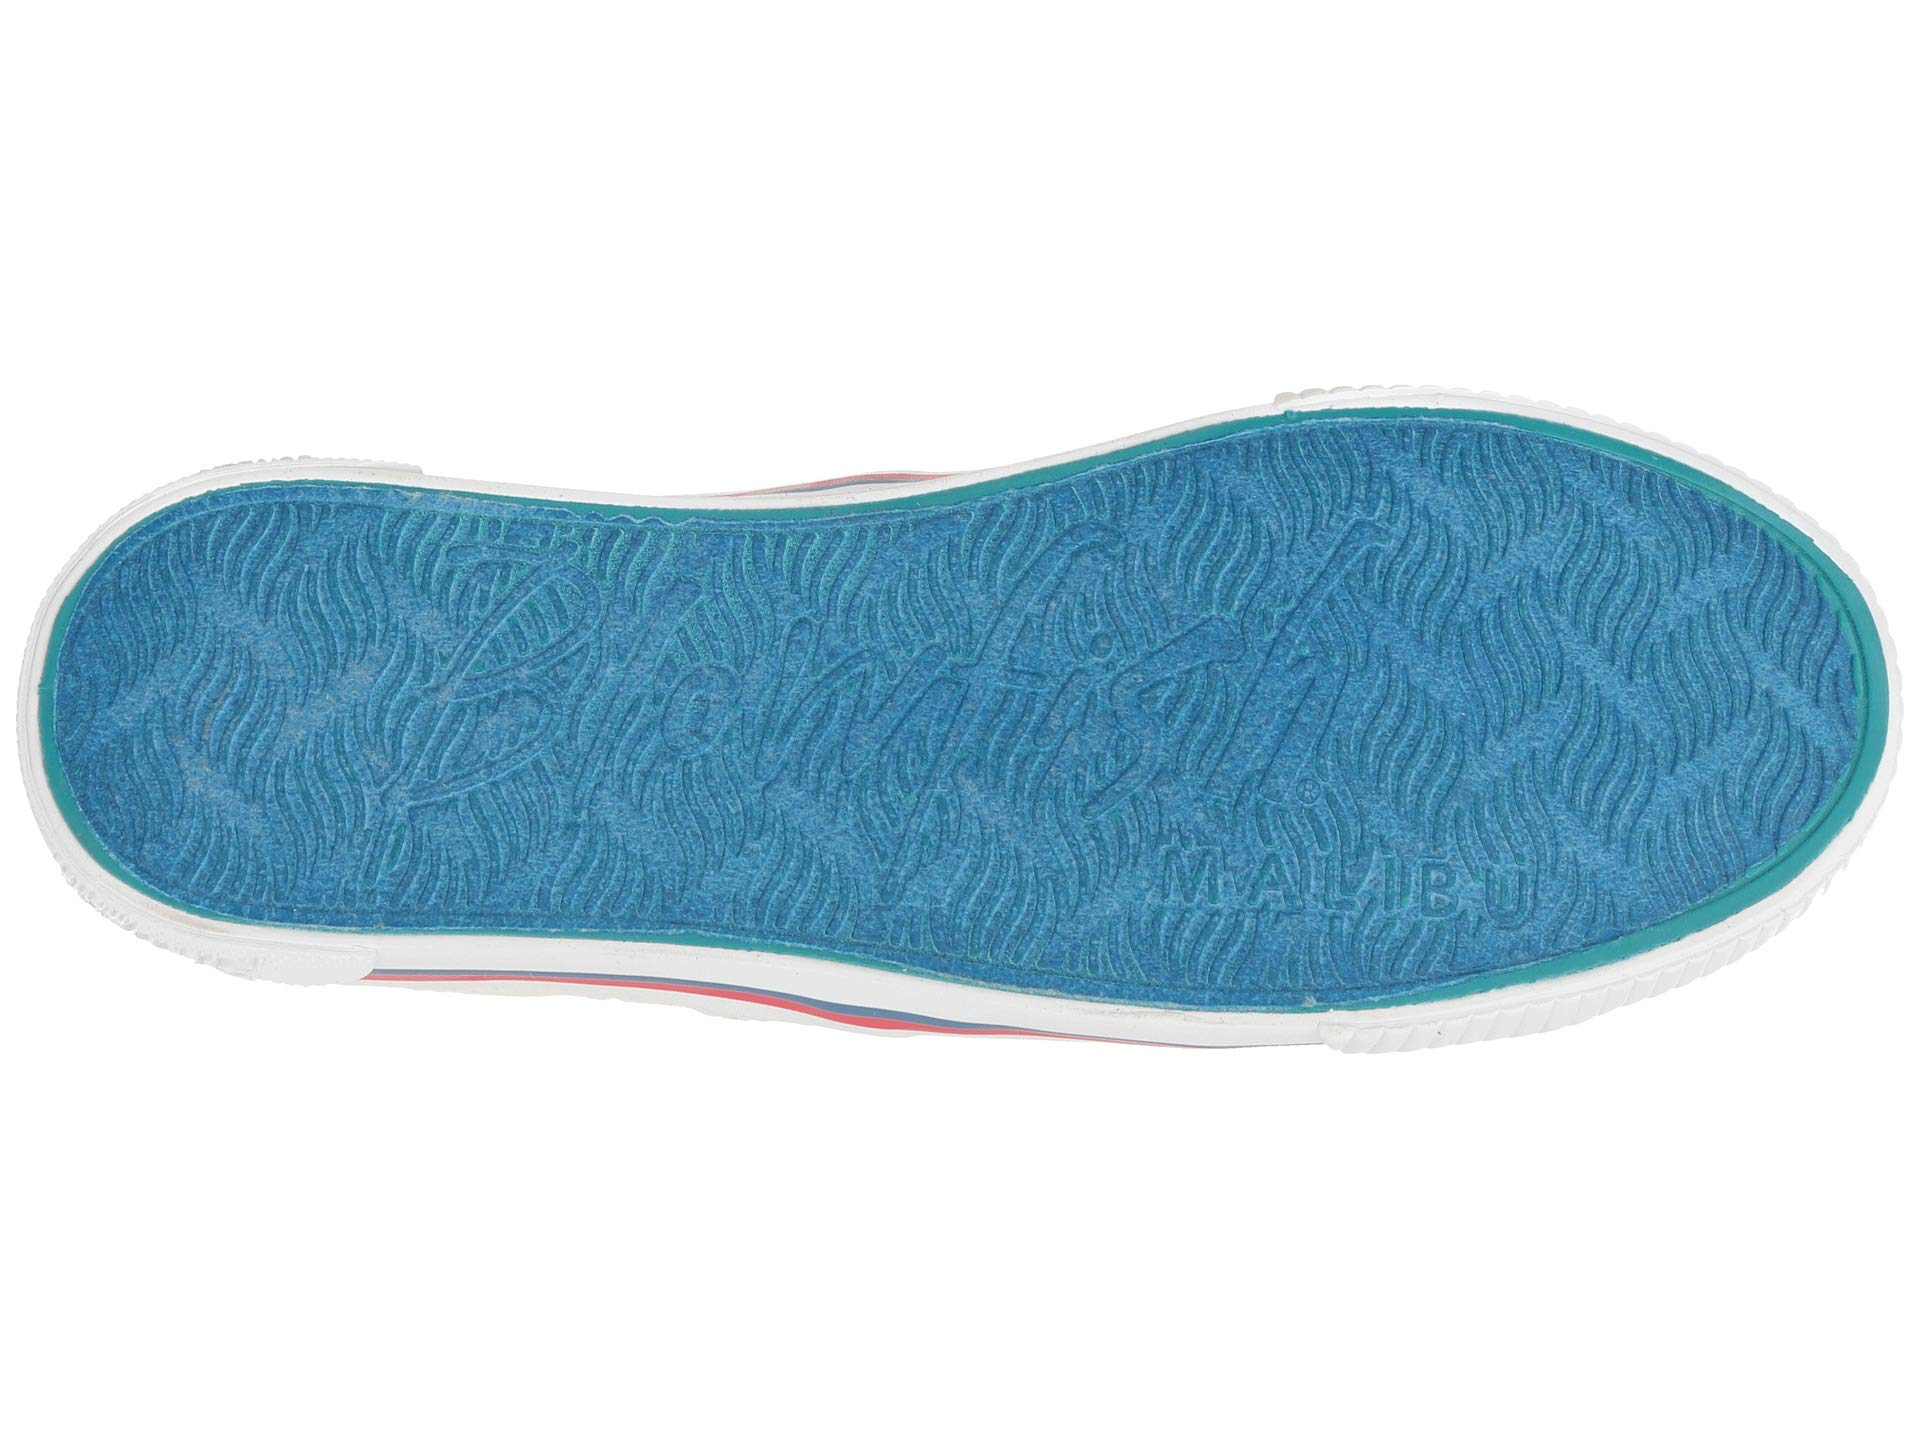circle: (887, 507, 1525, 991), (348, 510, 872, 927)
line: (887, 507, 1525, 991), (348, 510, 872, 927)
text: (887, 507, 1525, 991), (348, 510, 872, 927)
